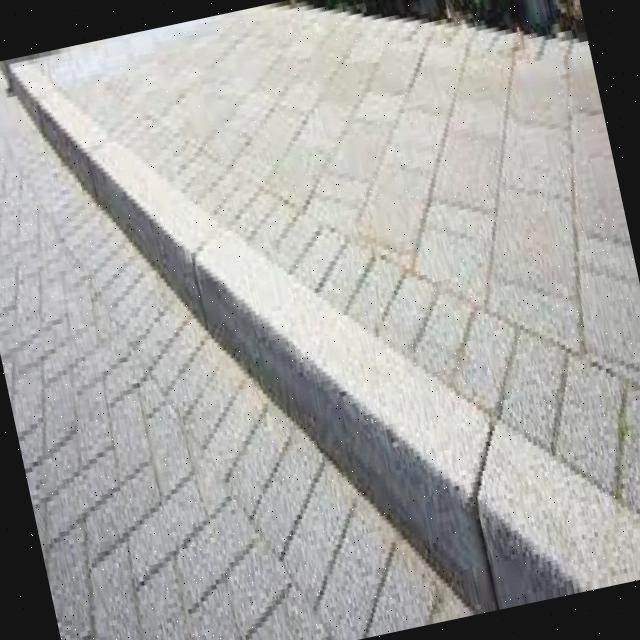curb: (125, 170, 440, 496), (360, 348, 640, 629), (5, 54, 188, 267)
